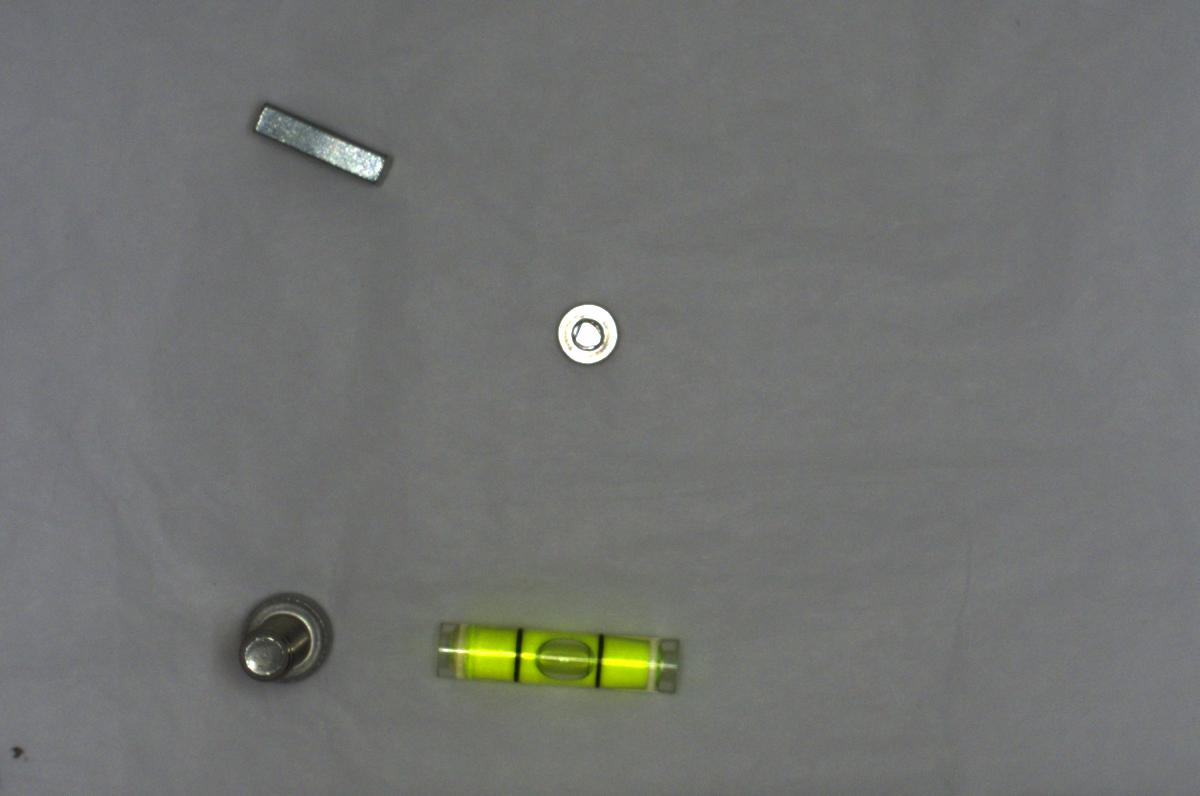Hexagon screw: (235, 595, 333, 688)
Horizontal bubble: (422, 613, 693, 703)
Rectangular nut: (241, 96, 395, 189)
Round head screw: (550, 292, 627, 370)
